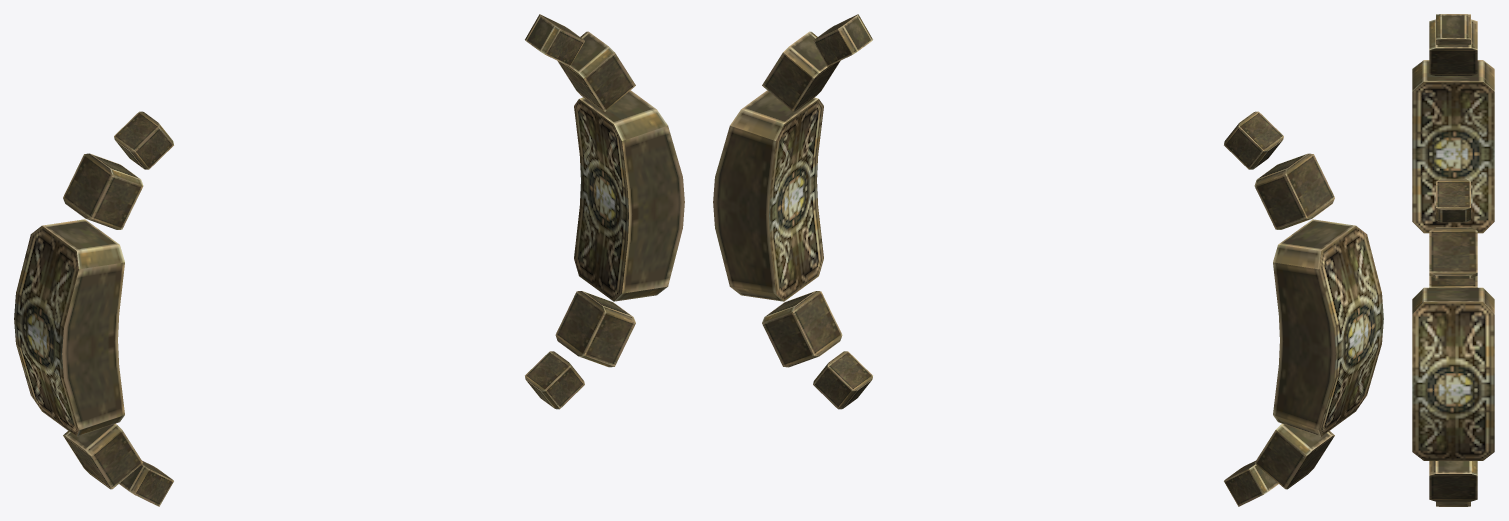
Rendered from tx_warrior_dundang_keep.obj.
The picture shows the model from 3 angles, left to right: view 1: azimuth 30°, elevation 25°; view 2: azimuth 150°, elevation 25°; view 3: azimuth 270°, elevation 25°; orthographic projection. The views are drawn at different scales.
Visible parts, largest first — view 1: common_RightHandItem_11046; view 2: common_RightHandItem_11046; view 3: common_RightHandItem_11046.
Boxes of the visible parts, <box> form: common_RightHandItem_11046: <box>14,14,684,506</box>; common_RightHandItem_11046: <box>713,14,1383,506</box>; common_RightHandItem_11046: <box>1412,14,1494,506</box>.
Size of the model in its own units: 53.64 by 31.54 by 7.16.
1 material, 1 textured.
